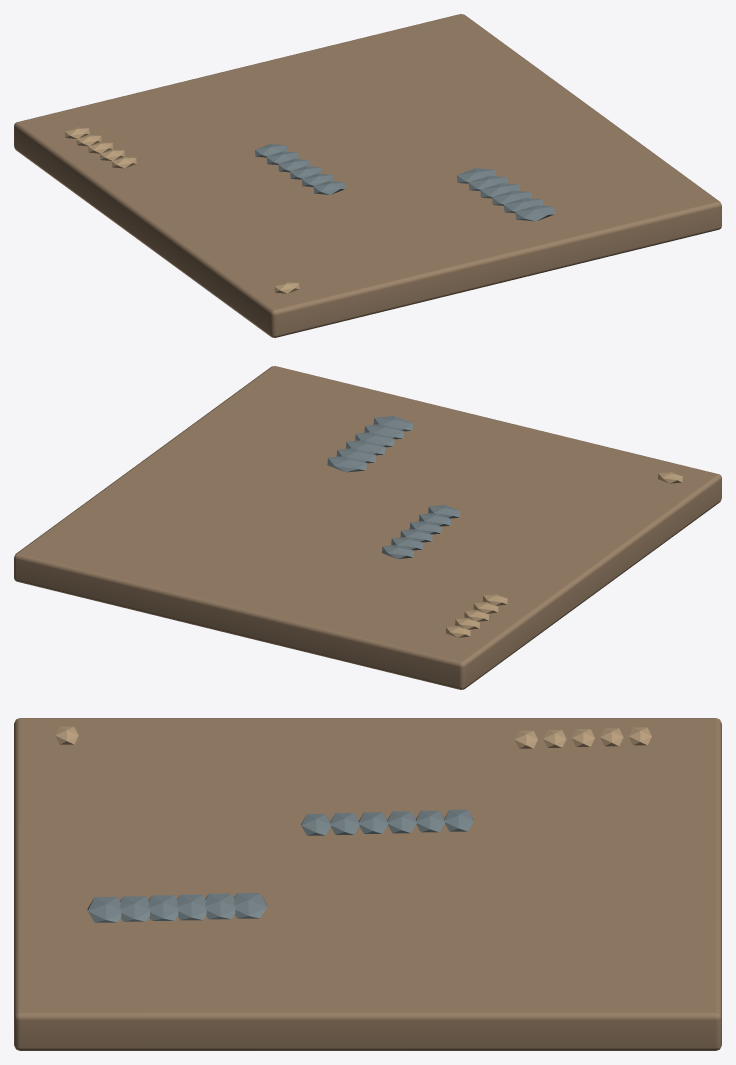
File: SM_Terrain_Dirt_4m.fbx
3 views of the same model, one above another, from view 1: azimuth 30°, elevation 25°; view 2: azimuth 150°, elevation 25°; view 3: azimuth 270°, elevation 25° (orthographic). The views are drawn at different scales.
Parts seen in each view (by area): view 1: SM_Terrain_Dirt_4m; view 2: SM_Terrain_Dirt_4m; view 3: SM_Terrain_Dirt_4m.
Boxes of the visible parts, bbox=[...] form: SM_Terrain_Dirt_4m: bbox=[14, 14, 721, 337]; SM_Terrain_Dirt_4m: bbox=[14, 366, 721, 689]; SM_Terrain_Dirt_4m: bbox=[14, 718, 721, 1050].
Size of the model in its own units: 4 by 0.29 by 4.
